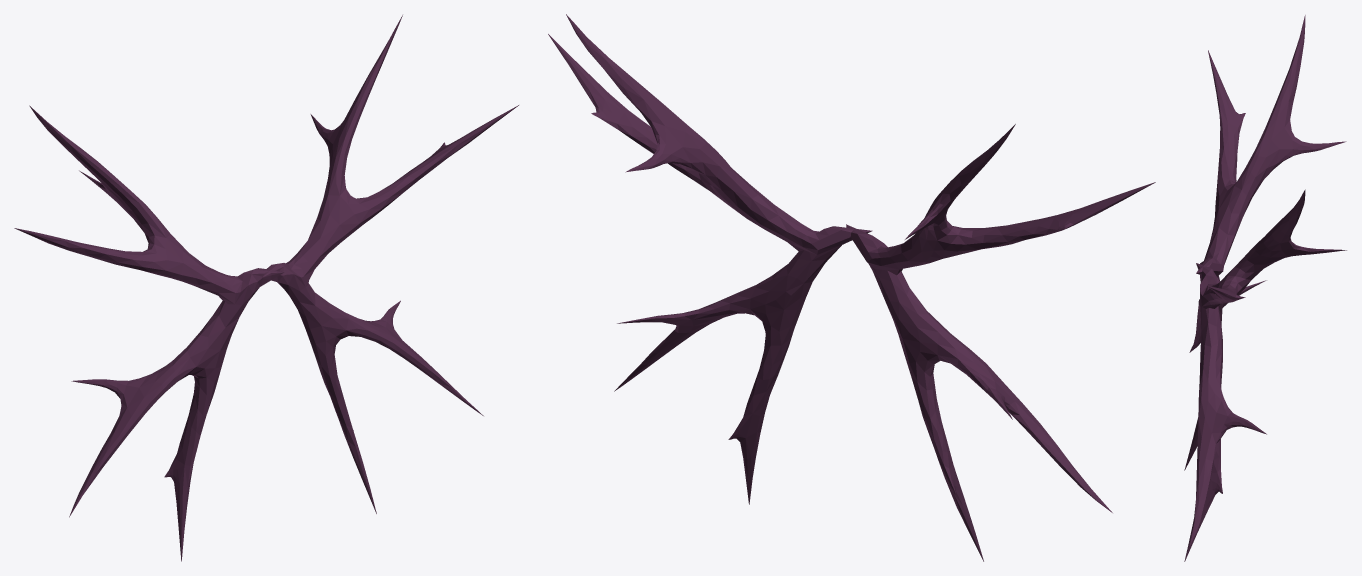
File: espina_.glb
3 views of the same model, side by side, from view 1: azimuth 30°, elevation 25°; view 2: azimuth 150°, elevation 25°; view 3: azimuth 270°, elevation 25° (orthographic). The views are drawn at different scales.
Parts seen in each view (by area): view 1: model_crown_03; view 2: model_crown_03; view 3: model_crown_03.
Part boxes in pixels (box(x1,y1,x2,y2)): model_crown_03: box(14, 15, 518, 561); model_crown_03: box(548, 14, 1155, 561); model_crown_03: box(1184, 15, 1346, 561).
Bounding box in the file's own units: 0.1834 × 0.1499 × 0.0534.
